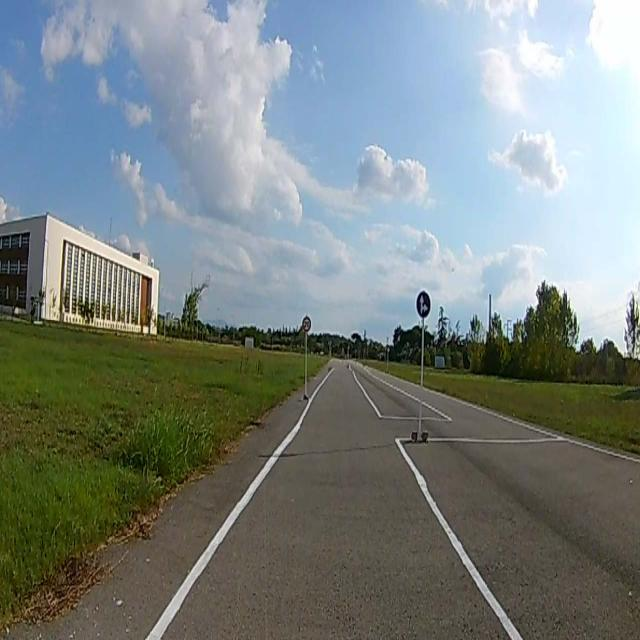ilerisag: (416, 290, 430, 316)
